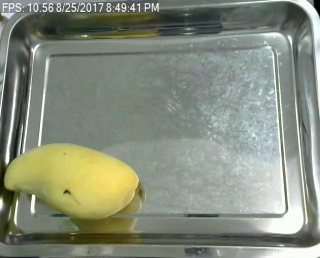Mango: (2, 136, 138, 223)
